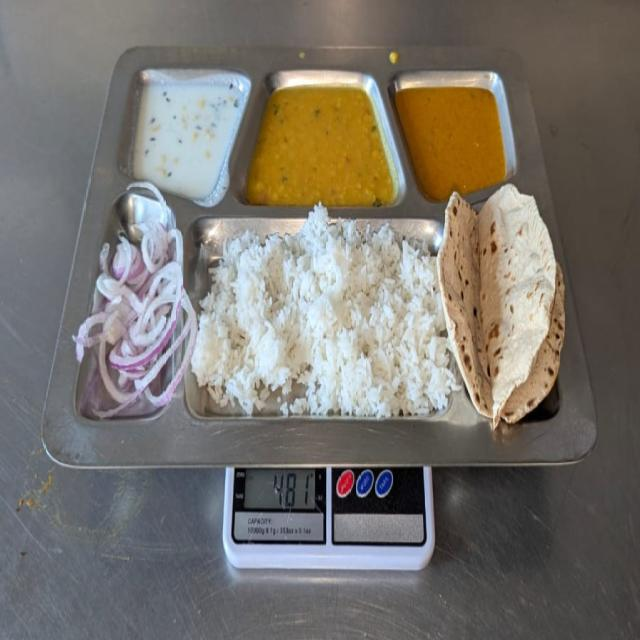Chapati: (444, 191, 569, 435)
Dal: (249, 76, 400, 208)
Paneer Curry: (401, 76, 510, 193)
Raita: (128, 70, 244, 206)
Salad: (72, 215, 195, 413)
White Rice: (195, 206, 443, 420)
